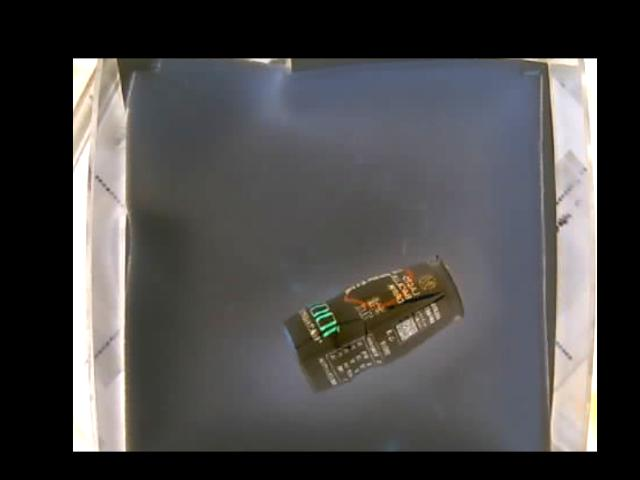Bottle: (282, 257, 465, 389)
